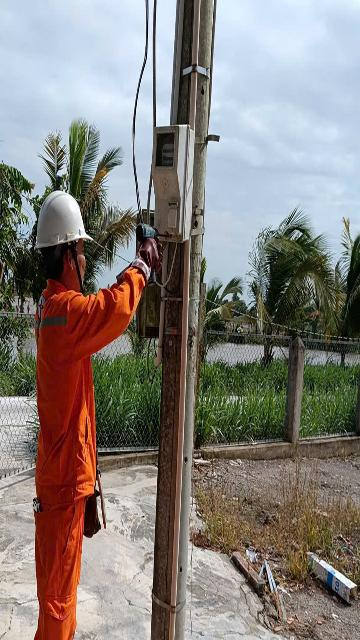gloves: (127, 237, 173, 274)
helmet: (23, 183, 97, 245)
